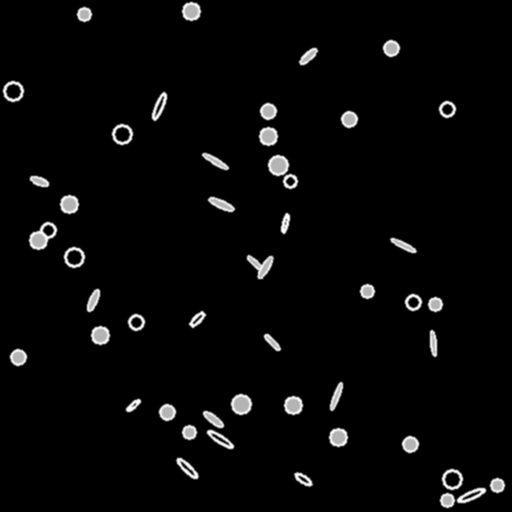pseudomonas: (175, 456, 199, 480), (206, 429, 234, 449), (201, 151, 229, 171), (456, 486, 486, 504), (150, 92, 168, 120), (208, 195, 234, 213), (328, 382, 344, 410), (256, 255, 274, 279), (390, 237, 416, 253), (202, 410, 224, 428), (298, 47, 318, 65), (246, 254, 264, 272), (263, 333, 281, 351), (293, 471, 313, 487), (86, 289, 100, 311), (29, 174, 49, 188), (189, 311, 205, 327), (125, 398, 141, 412), (280, 213, 290, 233), (429, 331, 437, 355)
synechocystis: (232, 395, 250, 413), (269, 156, 287, 174), (4, 82, 22, 100), (65, 248, 83, 266), (113, 125, 131, 143), (443, 470, 461, 488), (92, 327, 108, 343), (285, 397, 301, 413), (330, 429, 346, 445), (61, 196, 77, 212), (260, 128, 276, 144), (30, 232, 46, 248), (183, 3, 199, 19), (406, 295, 420, 309), (384, 41, 398, 55), (440, 102, 454, 116), (261, 104, 275, 118), (129, 315, 143, 329), (342, 112, 356, 126), (403, 437, 417, 451), (41, 223, 55, 237), (160, 405, 174, 419), (11, 350, 25, 364), (361, 285, 373, 297), (284, 175, 296, 187), (78, 8, 90, 20), (491, 479, 503, 491), (183, 426, 195, 438), (429, 298, 441, 310), (441, 494, 453, 506)
